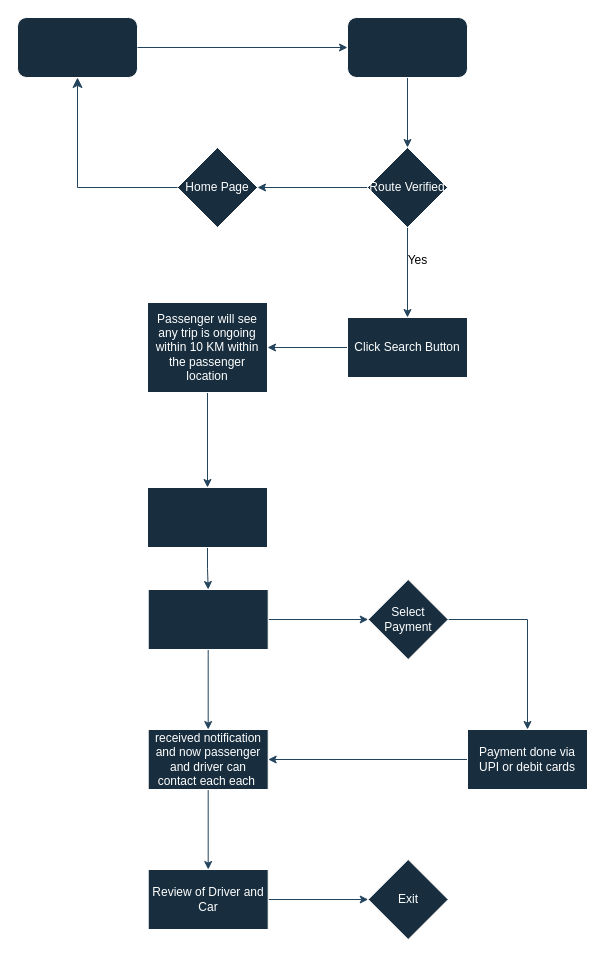
Some shapes in this 605 by 957 pixel diagram are drawn without their labels. The shapes that lost their labels are listed below. From the top down, each one's centre as x and y in pixels, then its label:
At (77,47): "Enter Destination Location".
At (407,47): "Check the Route for Destination".
At (317,170): "no".
At (207,517): "View Result".
At (207,619): "Confirm Booking and payment now or later".
